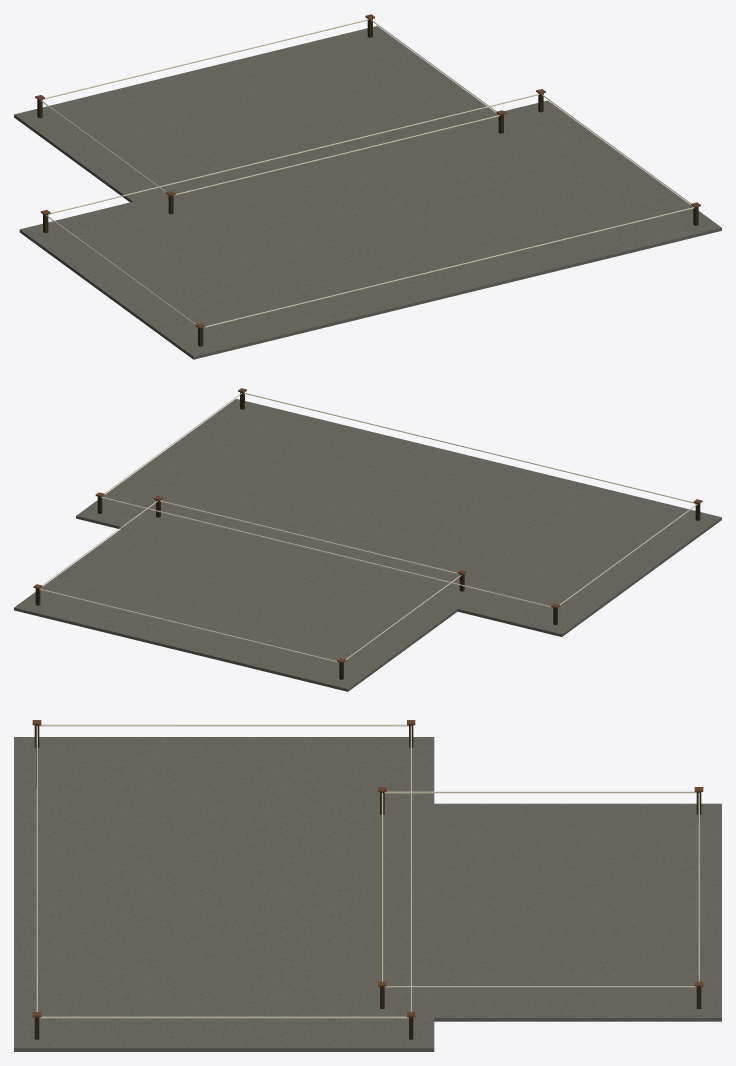
Rendered from fun-1-site.glb.
The picture shows the model from 3 angles, top to bottom: view 1: azimuth 30°, elevation 25°; view 2: azimuth 150°, elevation 25°; view 3: azimuth 270°, elevation 25°; orthographic projection. The views are drawn at different scales.
Size of the model in its own units: 25.6 by 1.09 by 24.6.
4 materials, 1 textured.
